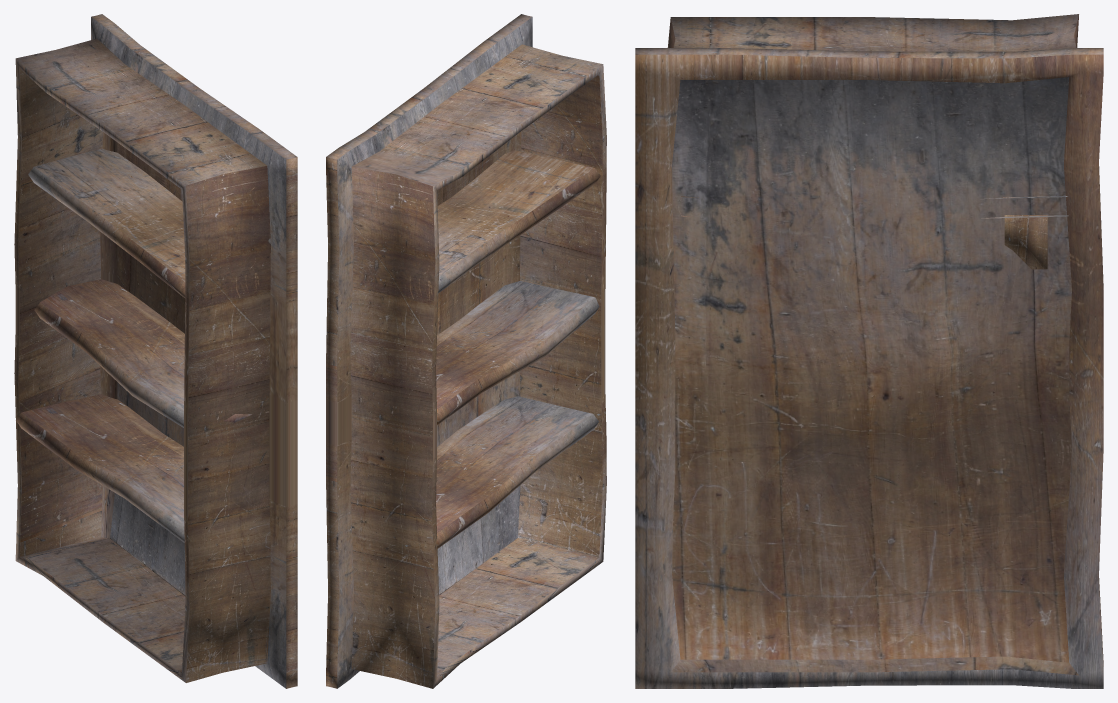
Rendered from Cupboard.FBX.
The picture shows the model from 3 angles, left to right: view 1: azimuth 30°, elevation 25°; view 2: azimuth 150°, elevation 25°; view 3: azimuth 270°, elevation 25°; orthographic projection. The views are drawn at different scales.
Visible parts, largest first — view 1: CoffinBase001, shelves; view 2: CoffinBase001, shelves; view 3: CoffinBase001, shelves.
Part boxes in pixels (x1,y1,x2,y2): CoffinBase001: (14, 14, 297, 688); shelves: (16, 148, 251, 542); CoffinBase001: (326, 14, 606, 688); shelves: (436, 150, 600, 548); CoffinBase001: (635, 14, 1103, 688); shelves: (679, 195, 1068, 269).
Bounding box in the file's own units: 2.64 × 11.88 × 7.95.
